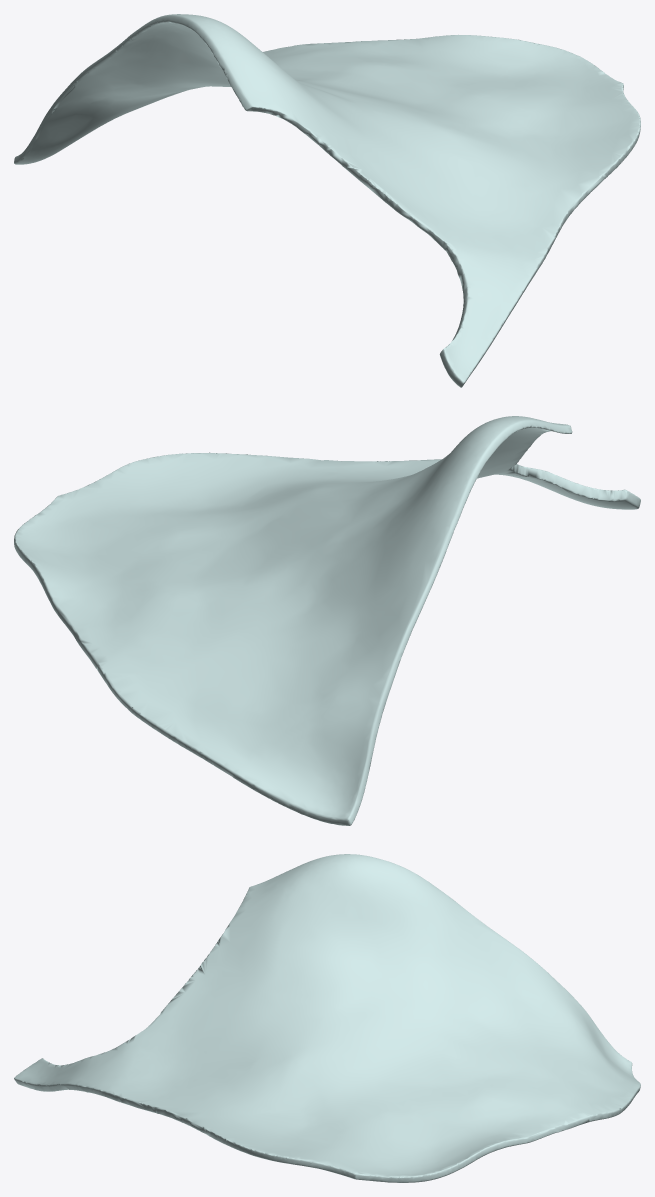
File: Tentorium_cerebelli_left.glb
The picture shows the model from 3 angles, top to bottom: view 1: azimuth 30°, elevation 25°; view 2: azimuth 150°, elevation 25°; view 3: azimuth 270°, elevation 25°; orthographic projection. The views are drawn at different scales.
Visible parts, largest first — view 1: Tentorium_cerebelli.l_grp1.026; view 2: Tentorium_cerebelli.l_grp1.026; view 3: Tentorium_cerebelli.l_grp1.026.
Part boxes in pixels (<box>): Tentorium_cerebelli.l_grp1.026: <box>14,14,640,387</box>; Tentorium_cerebelli.l_grp1.026: <box>14,416,640,825</box>; Tentorium_cerebelli.l_grp1.026: <box>14,854,640,1182</box>.
Bounding box in the file's own units: 0.0592 × 0.0331 × 0.0849.
